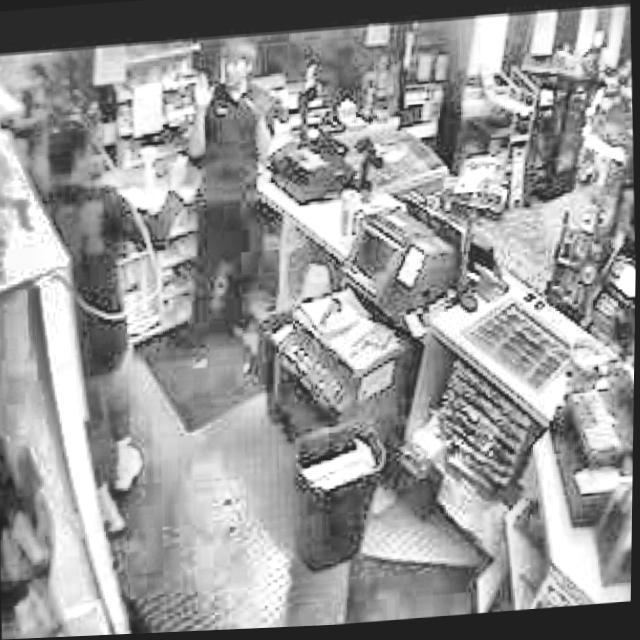Weapon: (11, 107, 224, 538), (178, 43, 310, 360)
